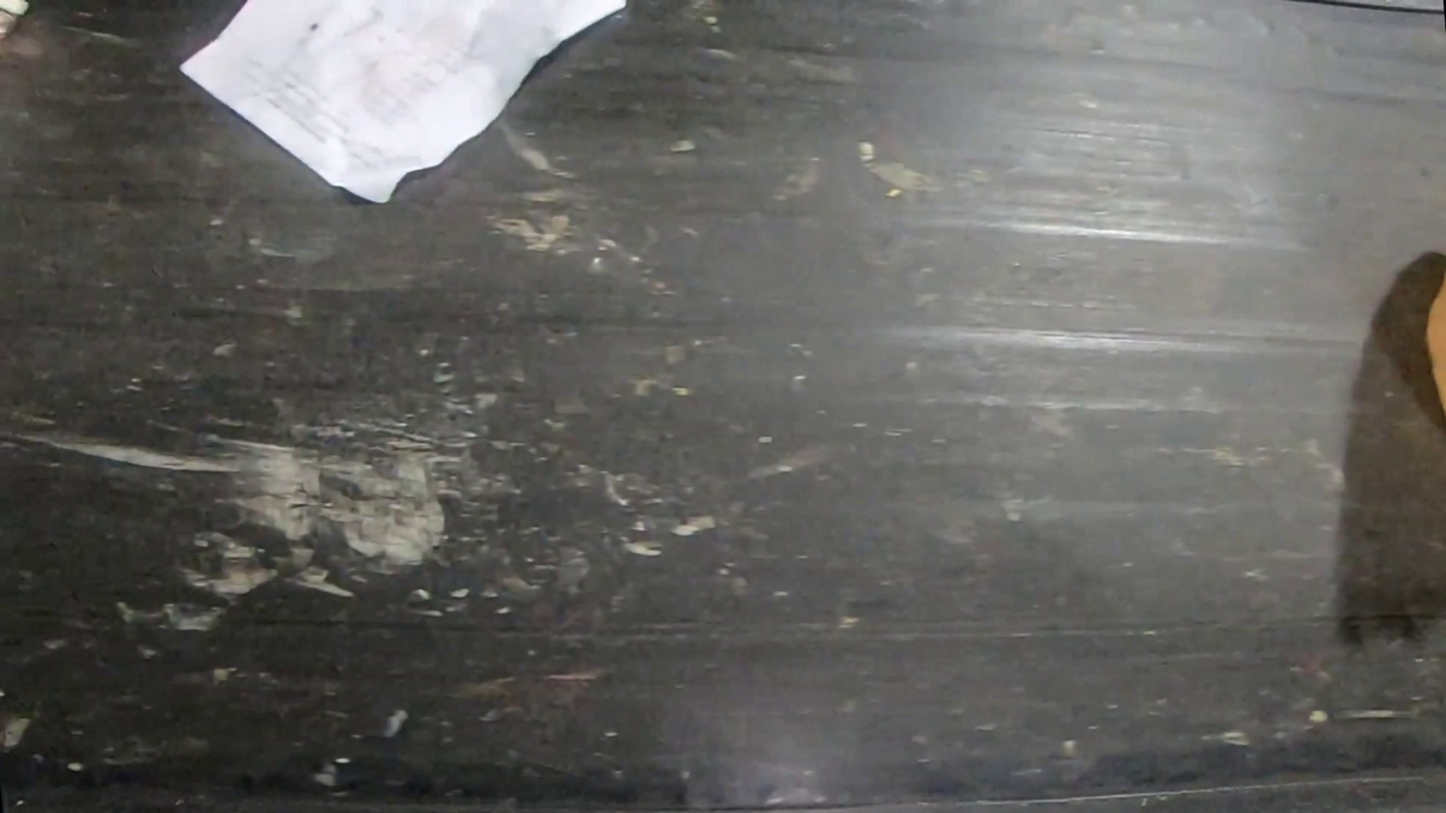plastic: (1424, 279, 1446, 423)
